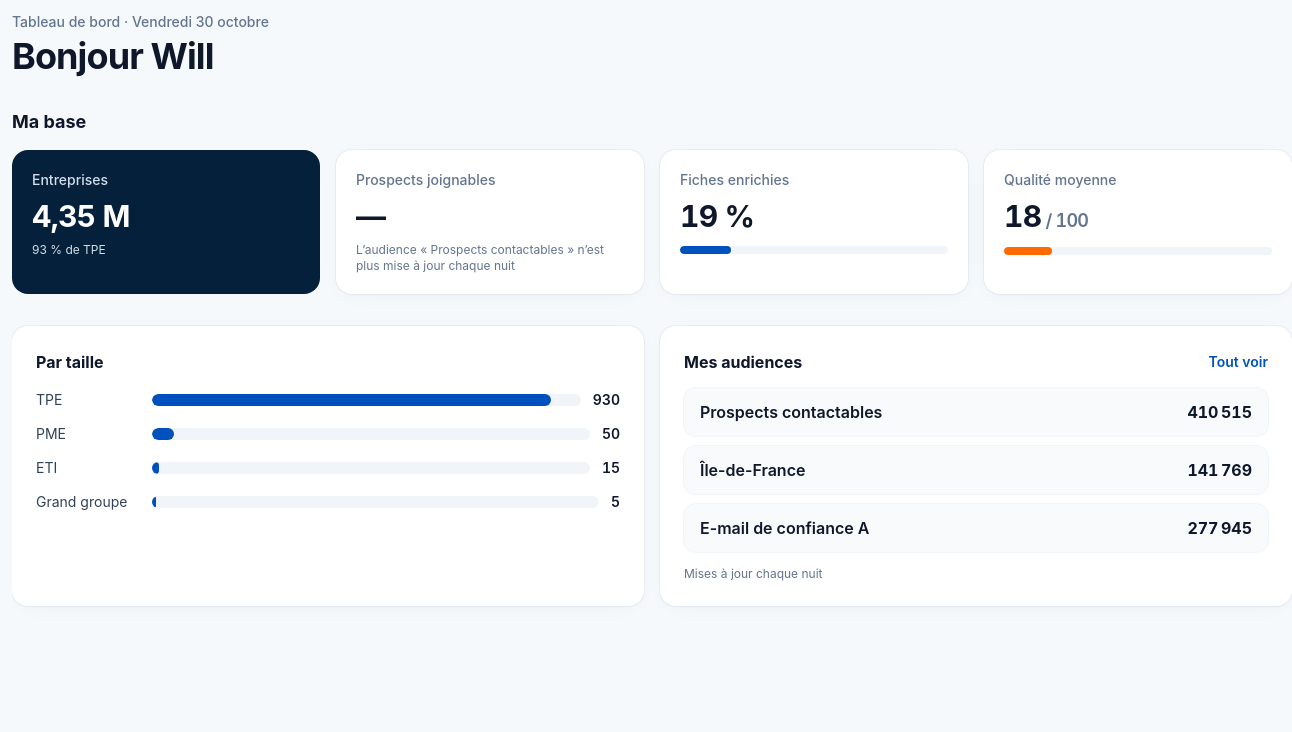
Test: DashboardPage — jamais un 0 trompeur › audience « Prospects contactables » désactivée : « — » et la raison EXACTE (infobulle), pas « indisponible »
Expected: the element with test id "tuile-joignables" shows "L’audience « Prospects contactables » n’est plus mise à jour chaque nuit", [356,242,604,273]
Expected: the element with test id "tuile-joignables" does not show "Chiffre indisponible pour le moment", [336,150,644,294]
Hover over the element with test id "tuile-joignables-raison": (371, 216) [356,198,385,234]
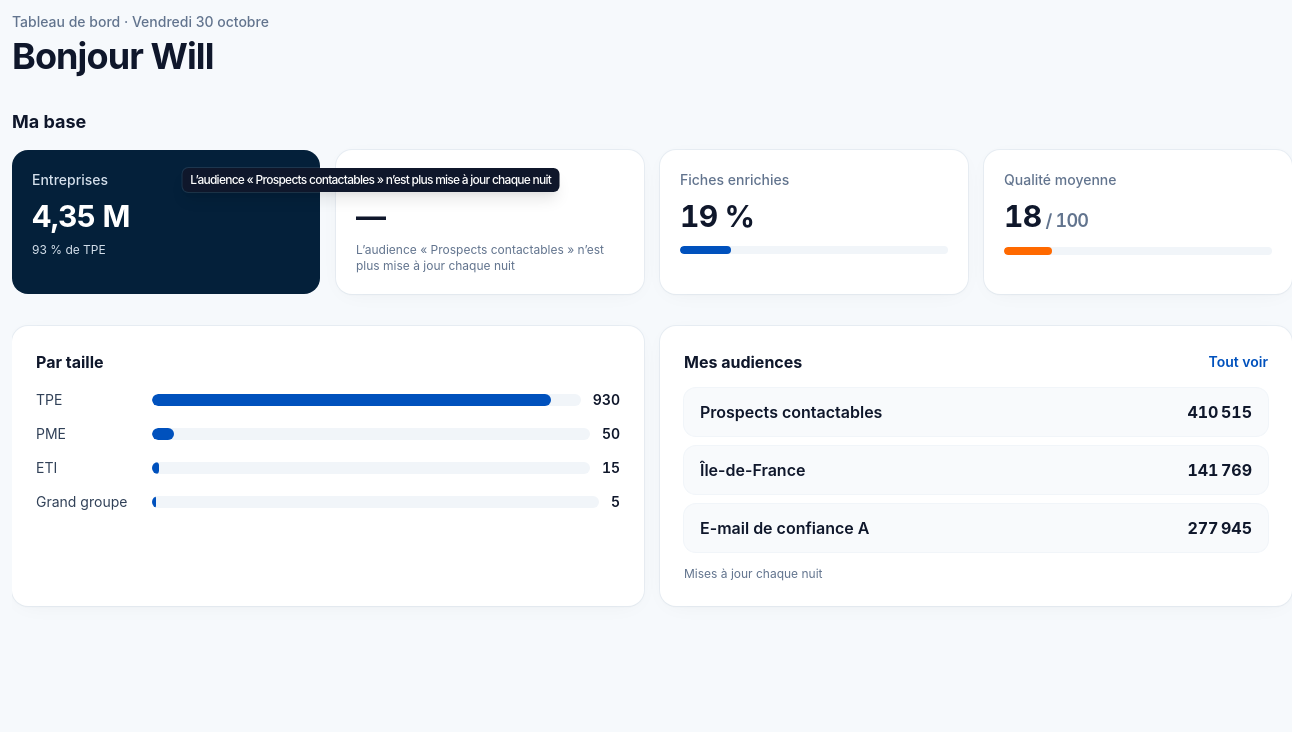
Expected: the tooltip reads "L’audience « Prospects contactables » n’est plus mise à jour chaque nuit", [190,172,551,187]
